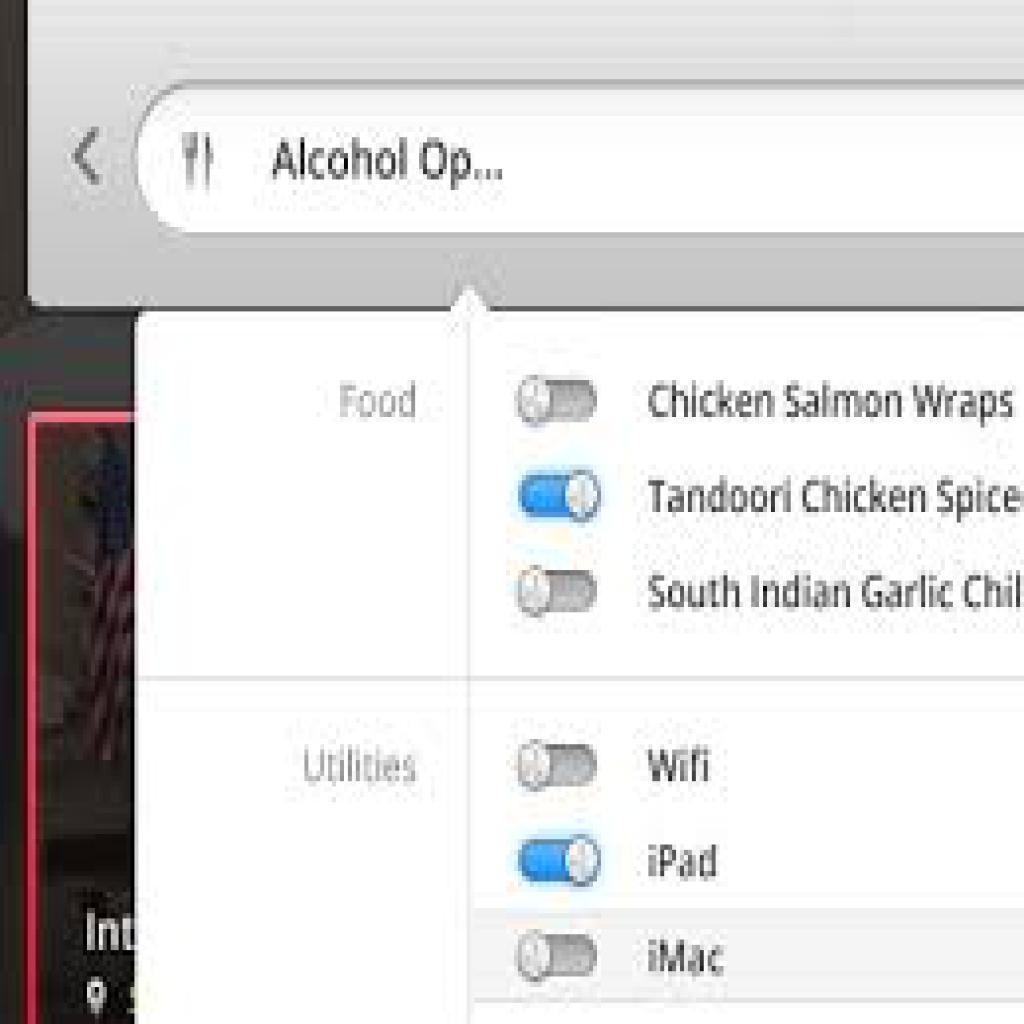label: (649, 474, 1024, 534), (649, 374, 1019, 431), (640, 569, 1024, 618), (295, 733, 423, 796), (325, 374, 436, 428), (646, 932, 737, 984), (645, 837, 726, 892), (649, 746, 730, 793)
switch: (516, 465, 605, 531), (516, 924, 606, 987), (519, 827, 608, 889), (516, 371, 603, 432), (518, 559, 601, 620), (518, 739, 602, 795)
